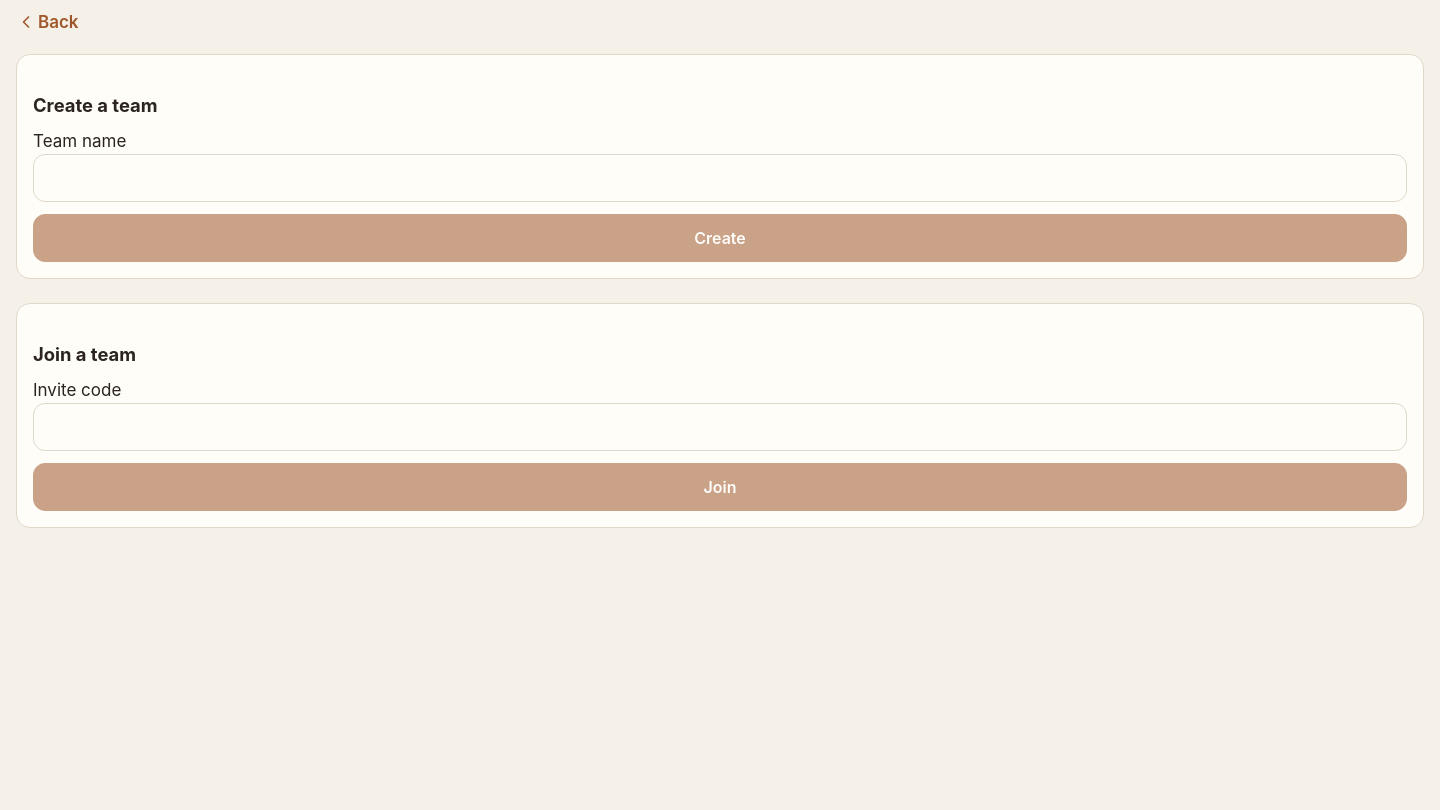
Test: CreateJoinPage › a bad invite code shows the team.badCode text
The image size is (1440, 810).
In the field labelled "Invite code": (720, 427) [33,403,1407,451], type "zzz"
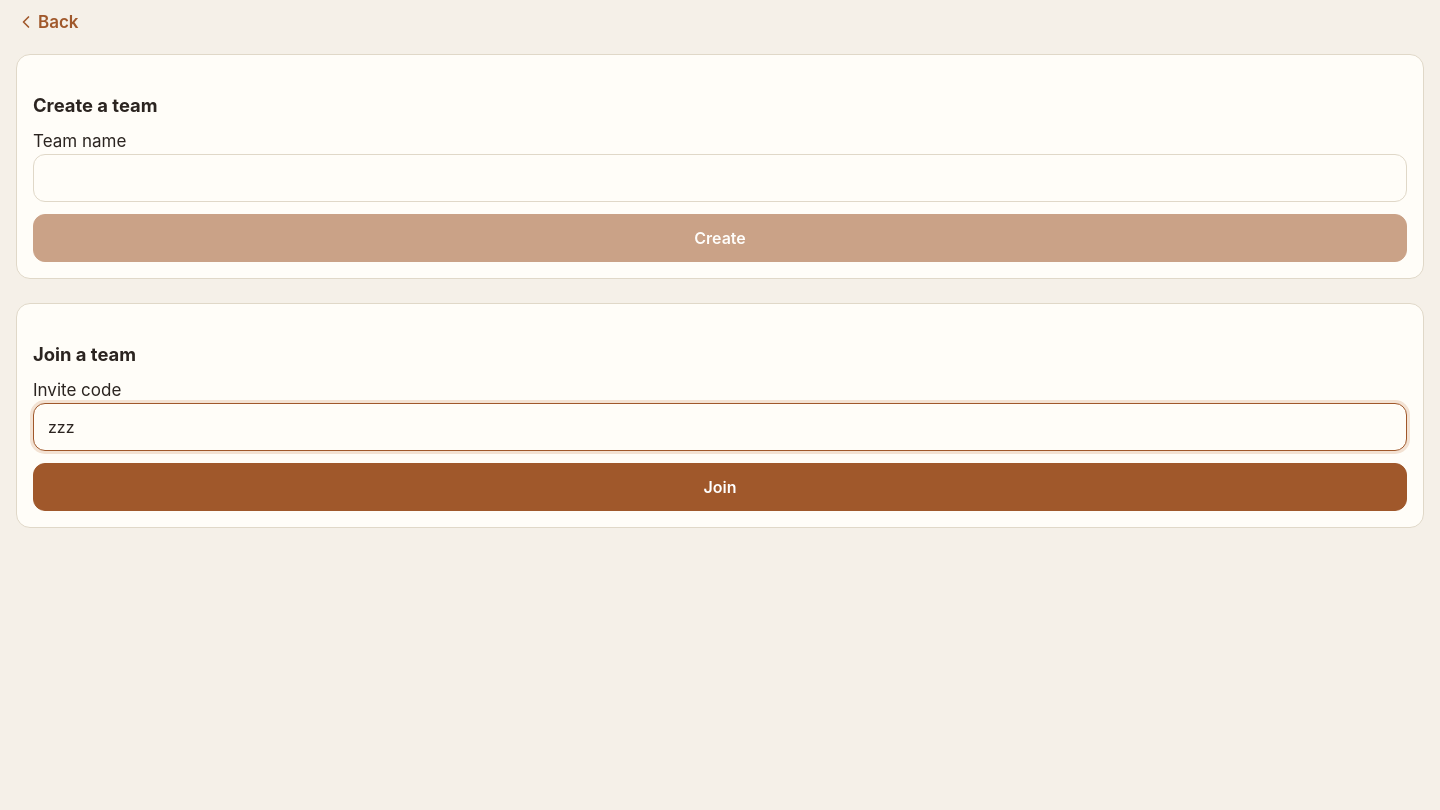
Click the button "Join": click(720, 487) [33,463,1407,511]
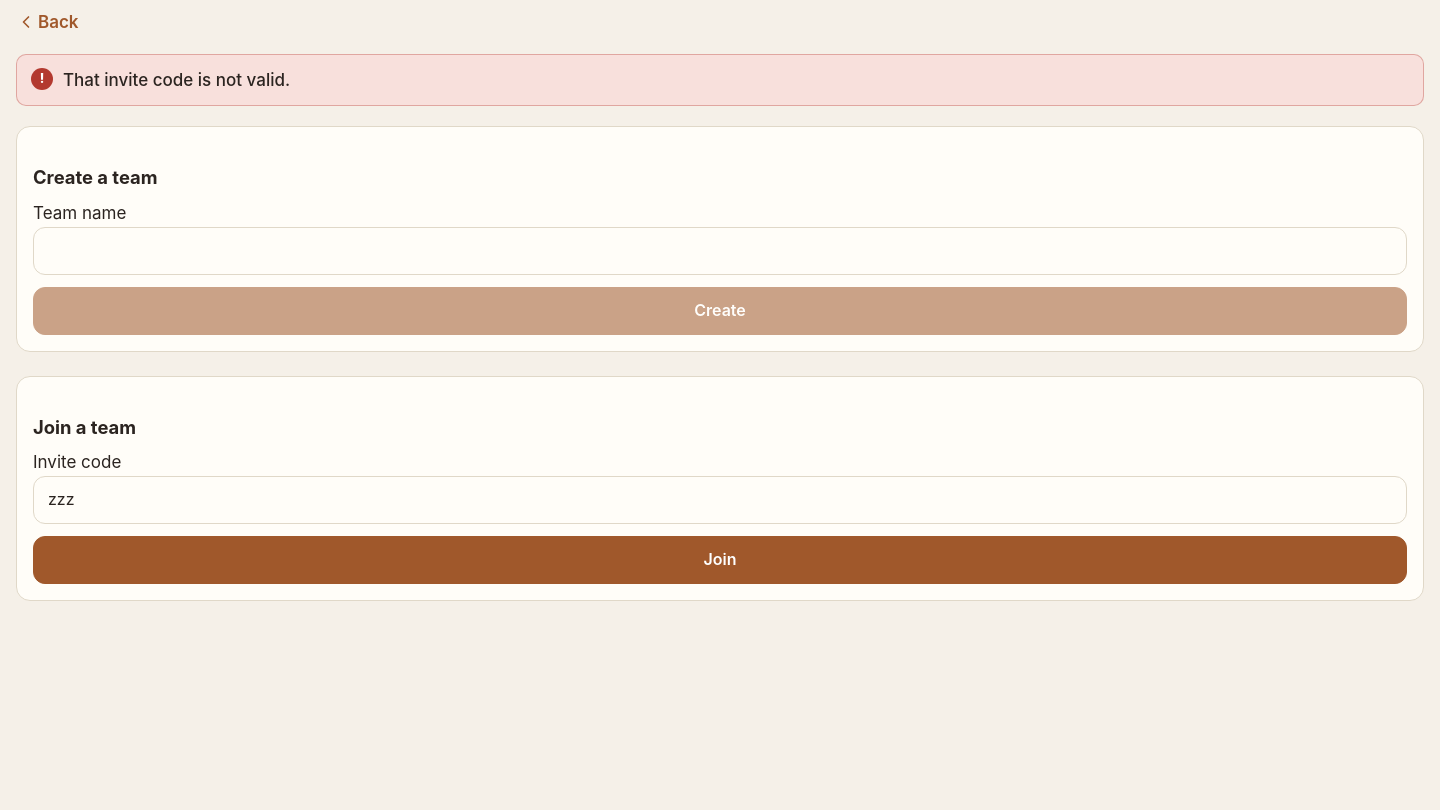
expect the message reads "That invite code is not valid.": met, box [63,70,290,90]
